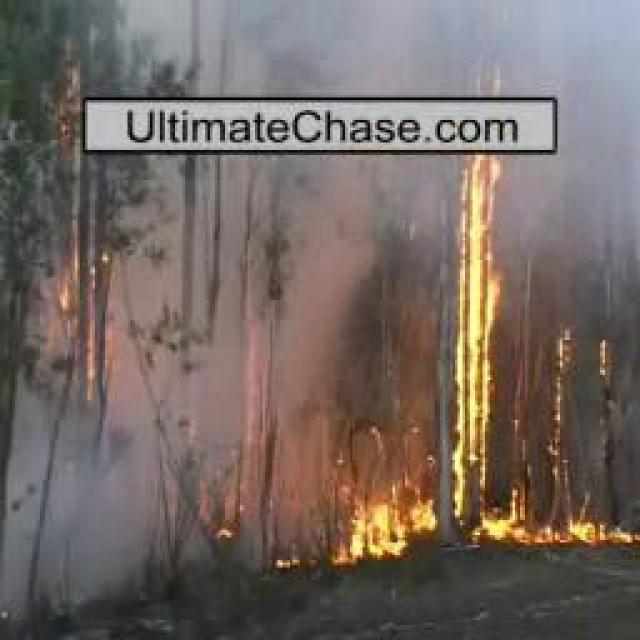Fire: (461, 90, 523, 545), (52, 219, 113, 406), (331, 477, 430, 564), (537, 507, 640, 542), (206, 483, 245, 542)
